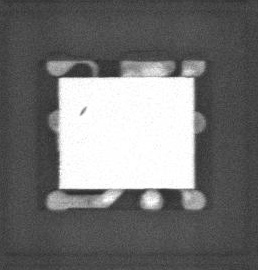DIE_INK: (75, 110, 83, 121)
